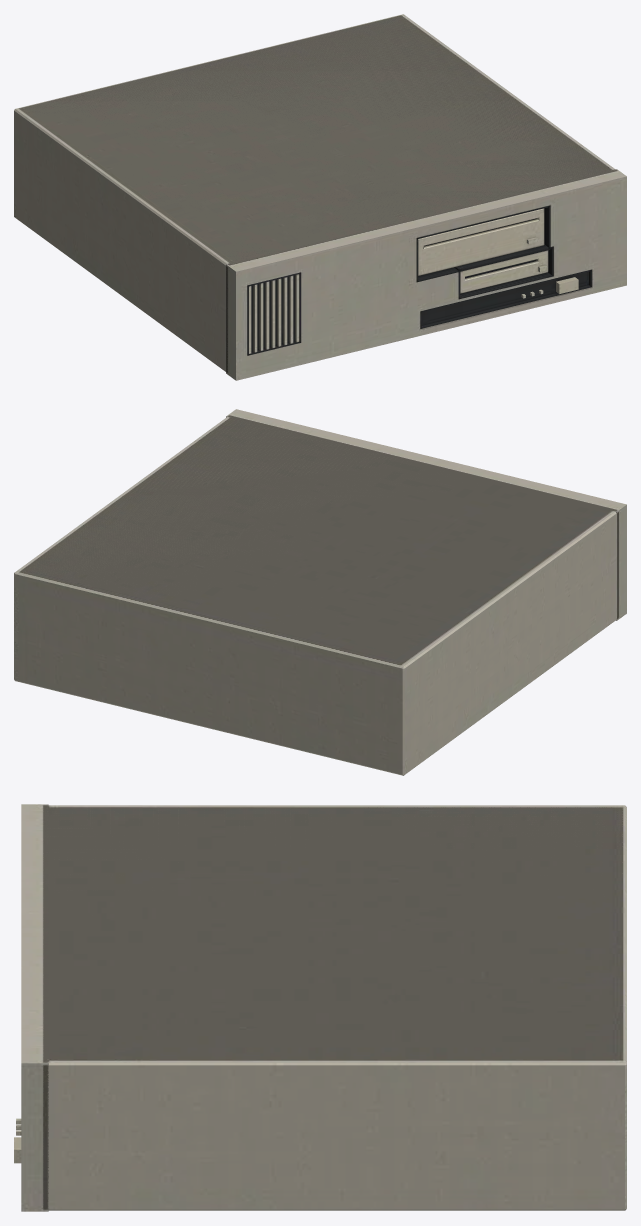
File: pizzabox-f.glb
3 views of the same model, one above another, from view 1: azimuth 30°, elevation 25°; view 2: azimuth 150°, elevation 25°; view 3: azimuth 270°, elevation 25° (orthographic). The views are drawn at different scales.
Parts seen in each view (by area): view 1: case-baked; view 2: case-baked; view 3: case-baked.
Part boxes in pixels (left/top/right/bottom): case-baked: left=14, top=14, right=626, bottom=380; case-baked: left=14, top=409, right=626, bottom=775; case-baked: left=14, top=804, right=626, bottom=1211.
Size of the model in its own units: 0.45 by 0.128 by 0.45.
Materials: 1 (1 with a texture image).
